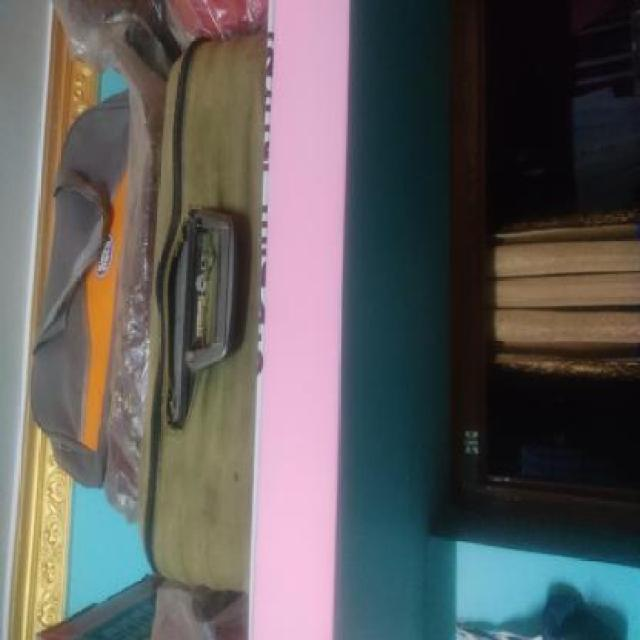backpack: (141, 26, 274, 597)
